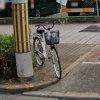bicycles: (32, 20, 64, 81)
